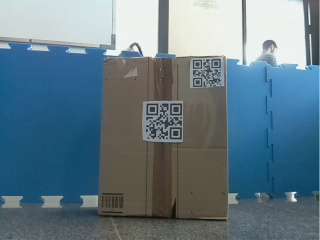caja: (102, 56, 229, 220)
